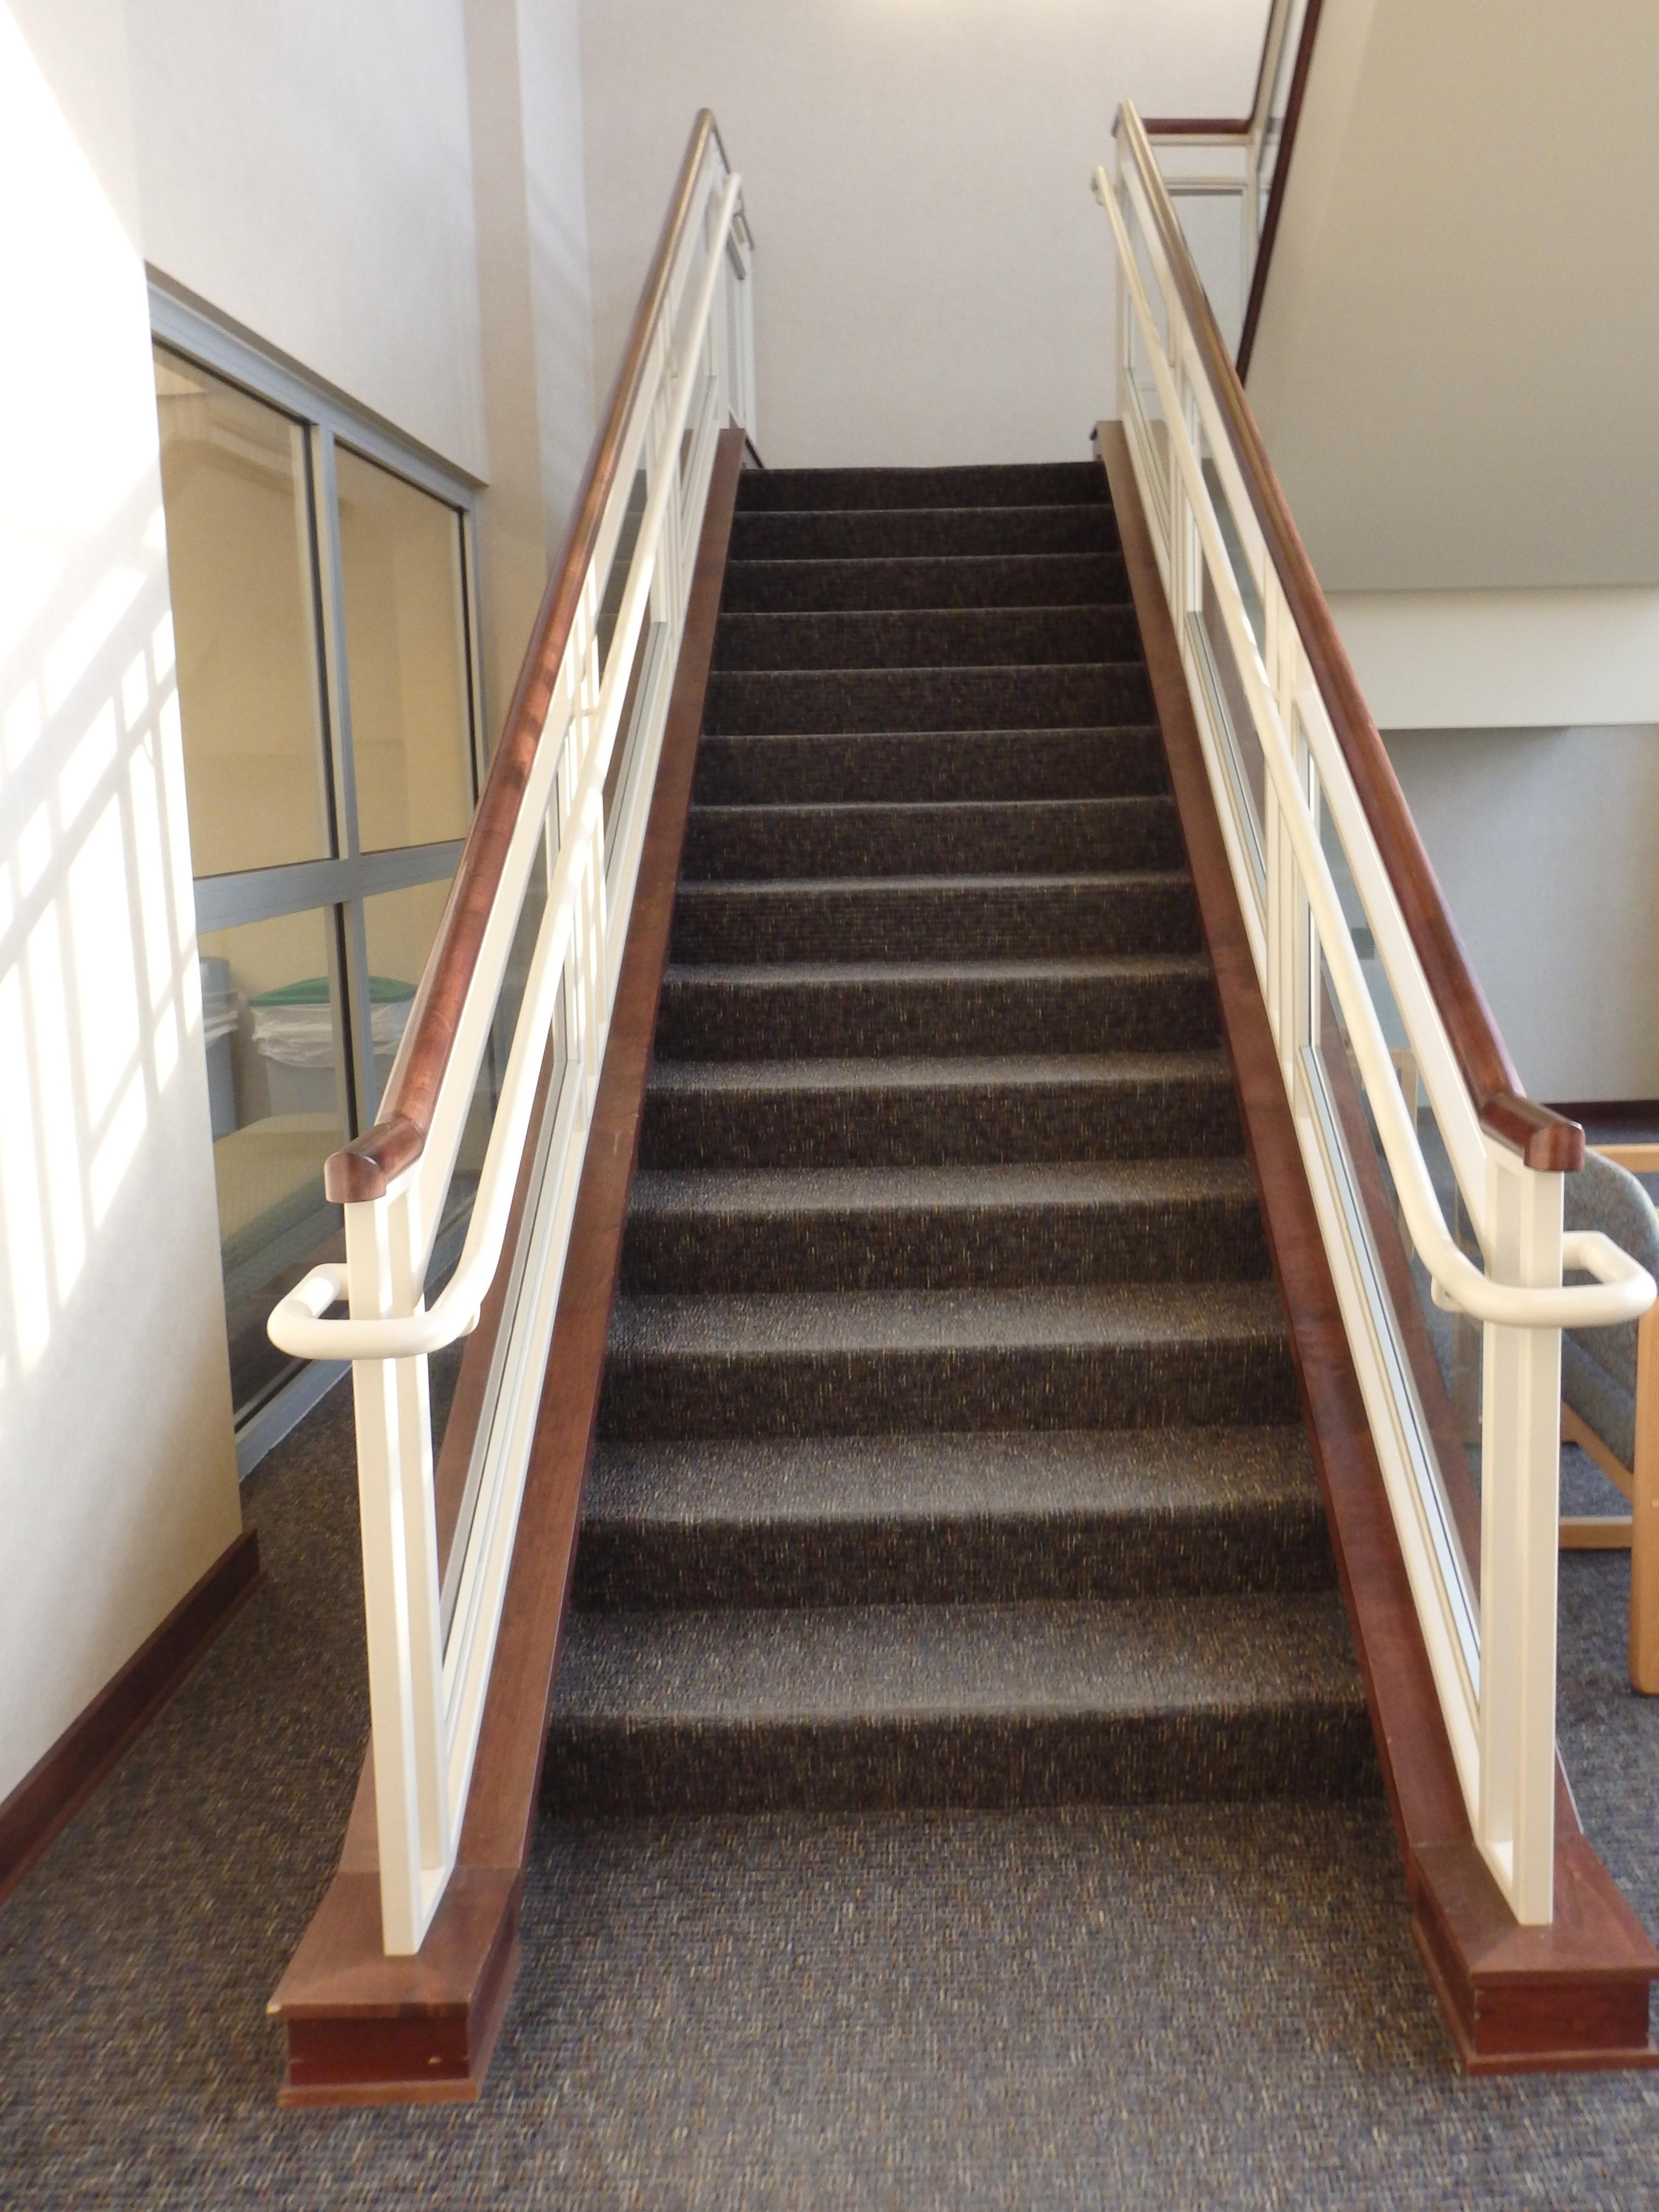stairs_up: (624, 453, 1375, 1825)
